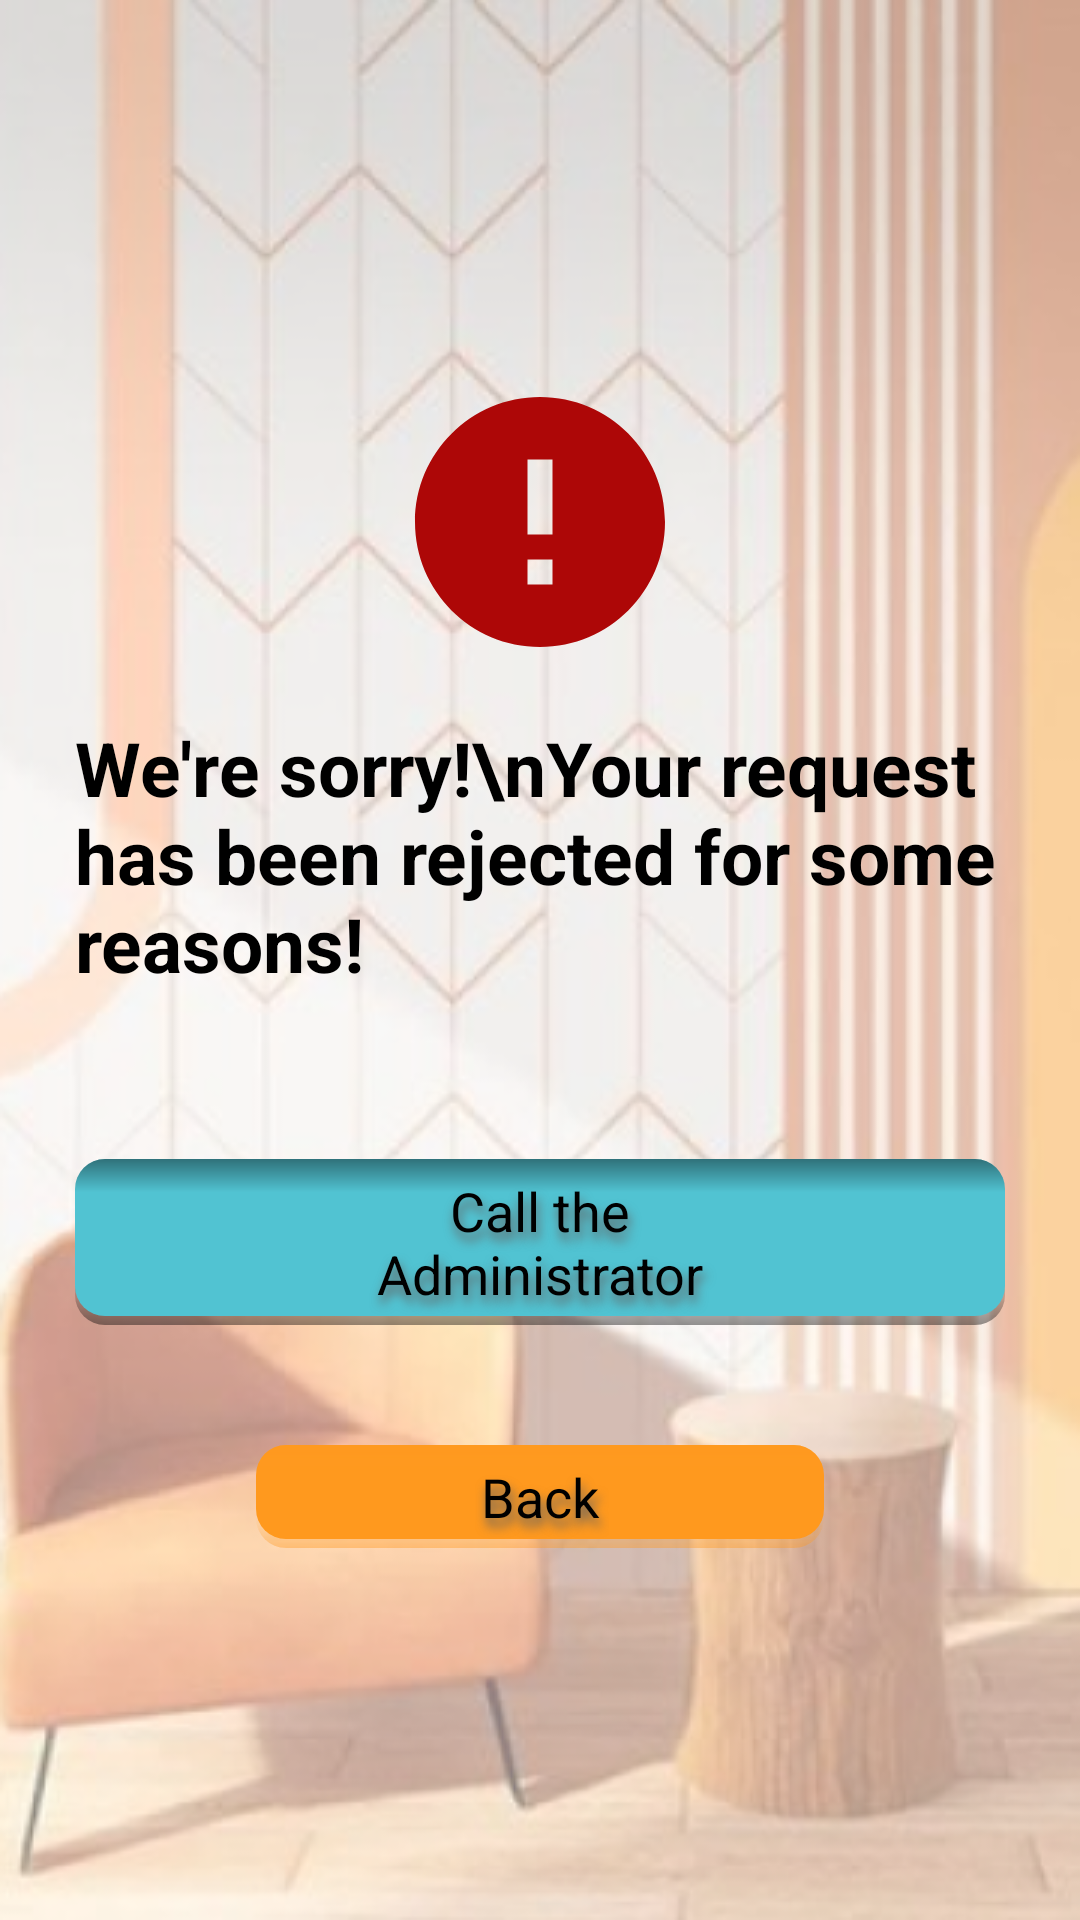

Screen size 1080px×1920px. Icon name, then its center in pixels as [x,y]:
error: [540,509]
